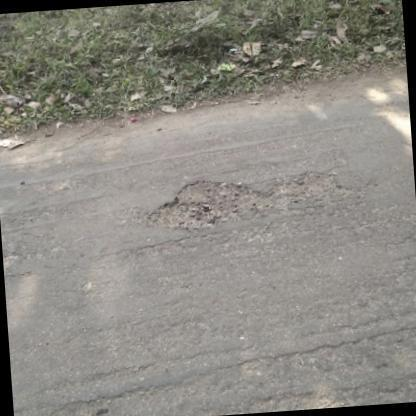pothole: (148, 174, 256, 232)
